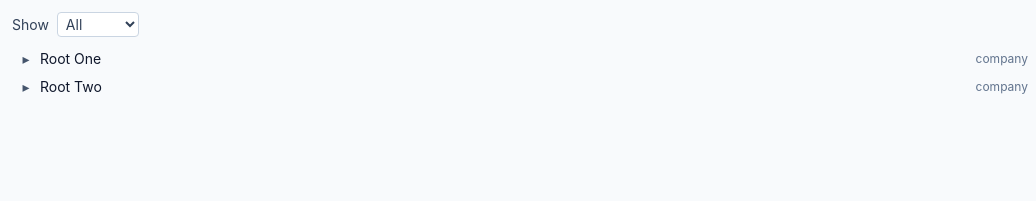
it: node tree › lists the access roots of /me and loads children only when a node is expanded
Expected: the list item "Root One" is shown, [12, 45, 1035, 73]
Expected: the list item "Root Two" is shown, [12, 73, 1035, 101]
Click the button named "Expand Root One": click(26, 59) [16, 49, 36, 69]
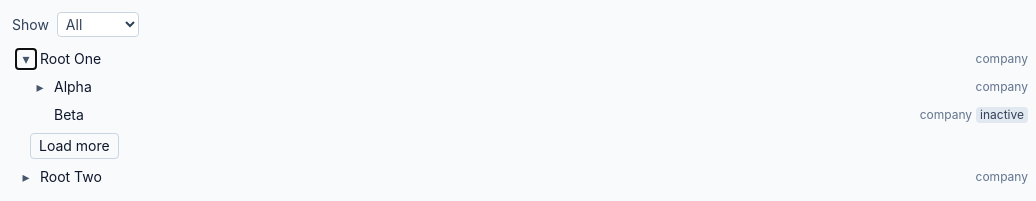
Expected: the list item "Alpha" is shown, [12, 73, 1035, 101]
Expected: the list item "Beta" shows "inactive", [980, 107, 1024, 122]
